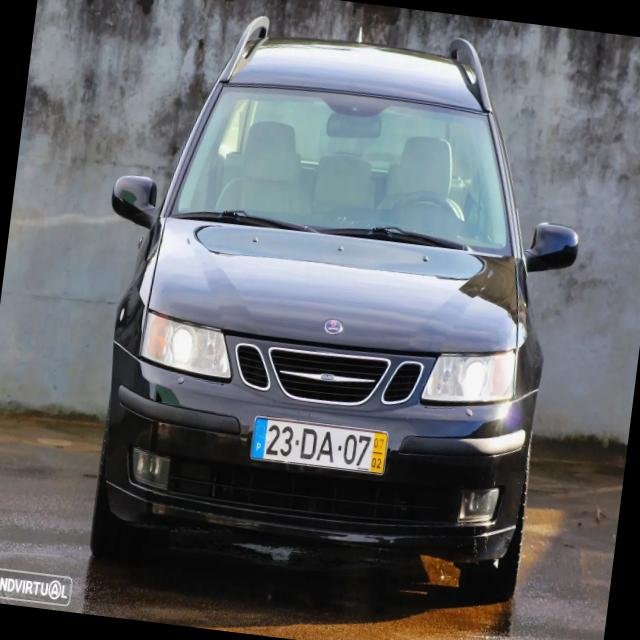portuguese-license-plates: (250, 414, 390, 476)
